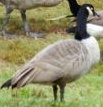goose: (2, 3, 103, 103)
